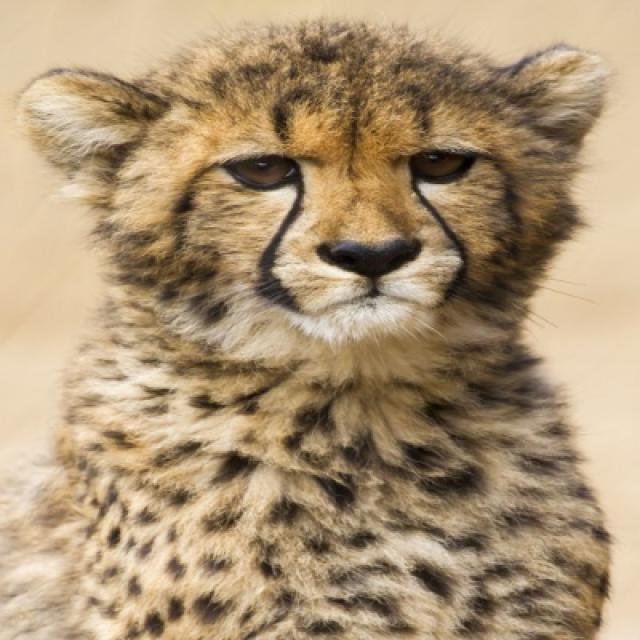Cheetah: (0, 19, 613, 638)
